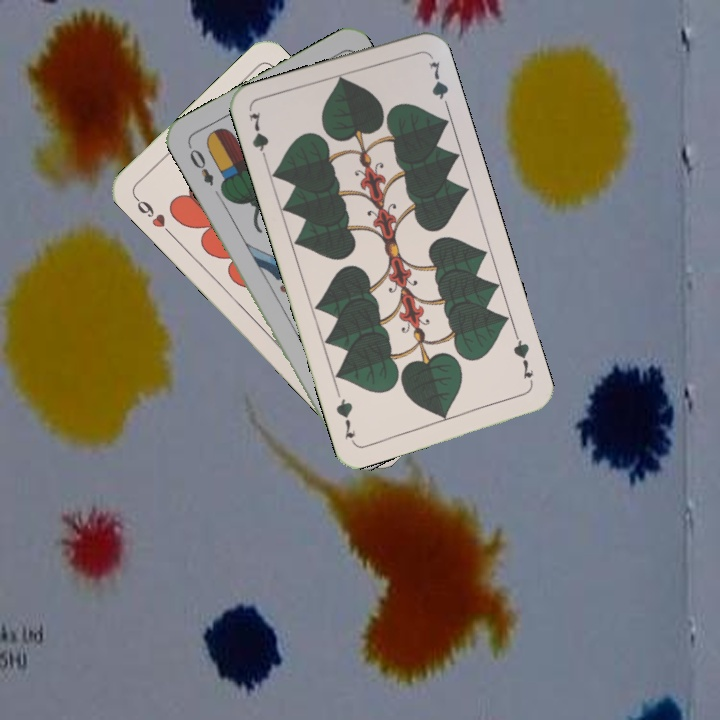EO: (184, 141, 217, 188)
G7: (245, 108, 272, 166), (509, 330, 536, 382)
H9: (130, 192, 176, 239)
